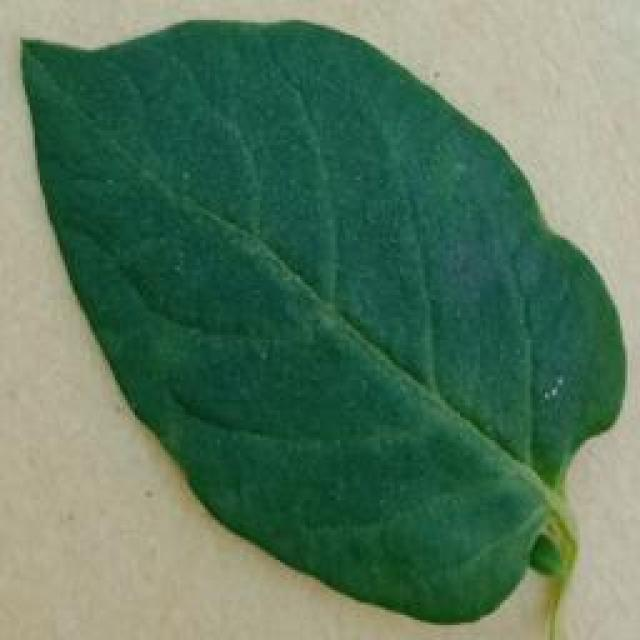Potato_Healthy: (19, 19, 619, 630)
